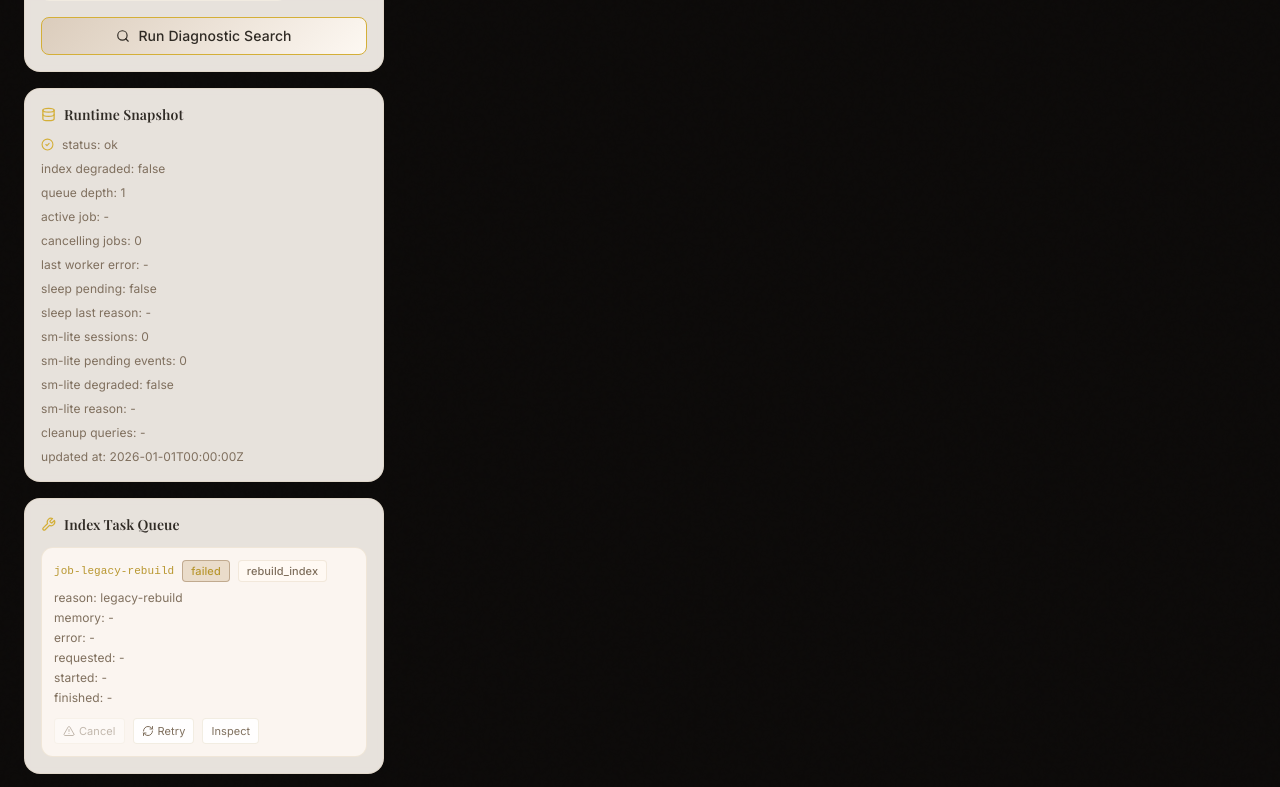
it: ObservabilityPage › falls back to legacy rebuild endpoint when retry endpoint returns 405
(page scrolled)
expect the text "job-legacy-rebuild" is shown: met, box 54,564 -> 174,576
What coordinates should you click on to do the following:
click the button "Retry"
I would click on:
 (164, 730)
Its box is 133,718 -> 194,744.
(page scrolled)
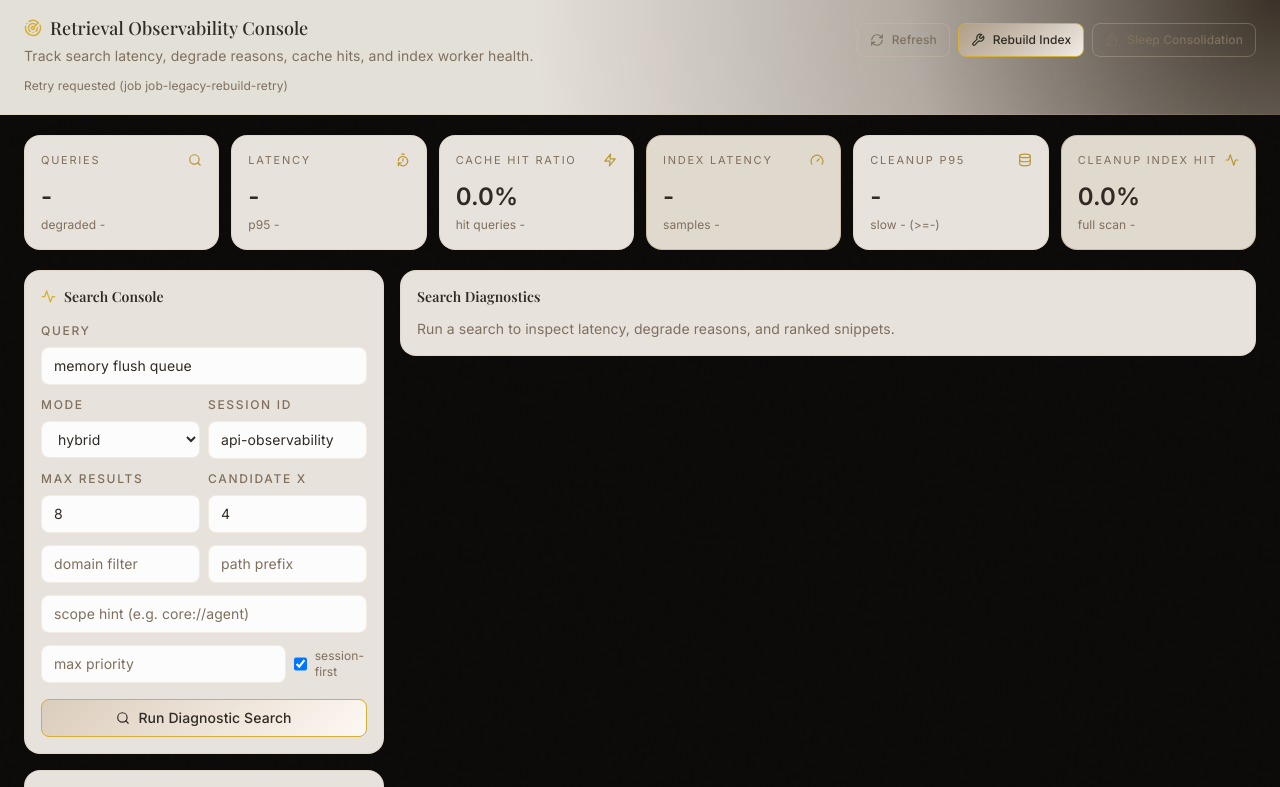
expect the text "Retry requested (job job-legacy-rebuild-retry)" is shown: met, box 24,78 -> 288,93
